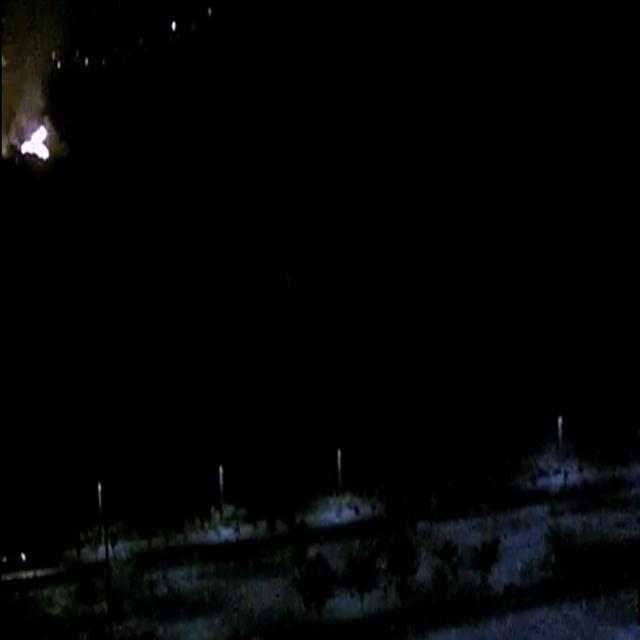Fire: (18, 126, 52, 164)
Smoke: (4, 14, 74, 132)
